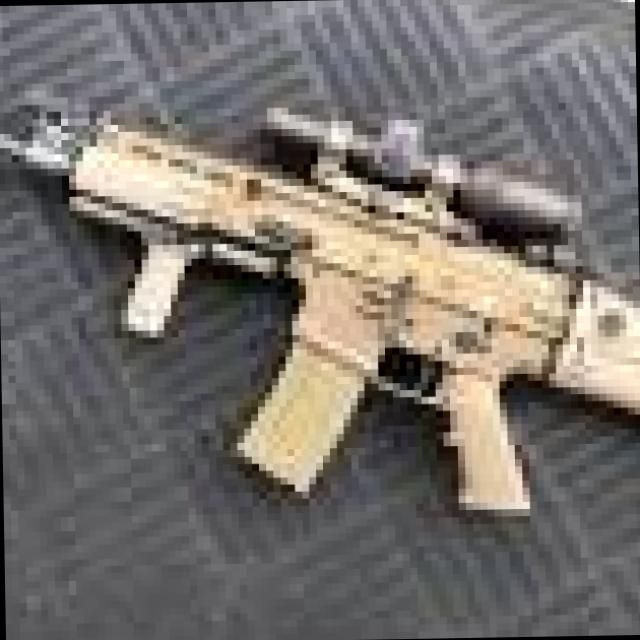Gun: (0, 37, 640, 539)
